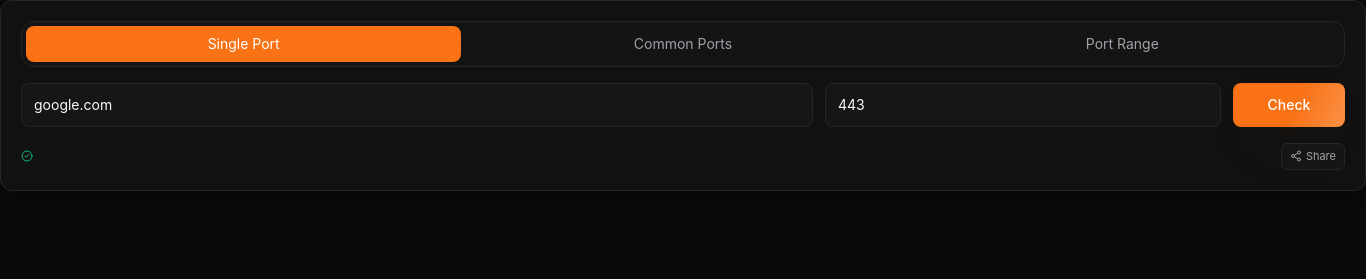
Test case: target-guard integration — DNS/Port/SSL forms › Port checker blocks 'localhost' before posting to /api/v1/port/check
Replace the text in the field named "enter hostname" with "localhost". click: (417, 105)
box: [21,83,813,127]
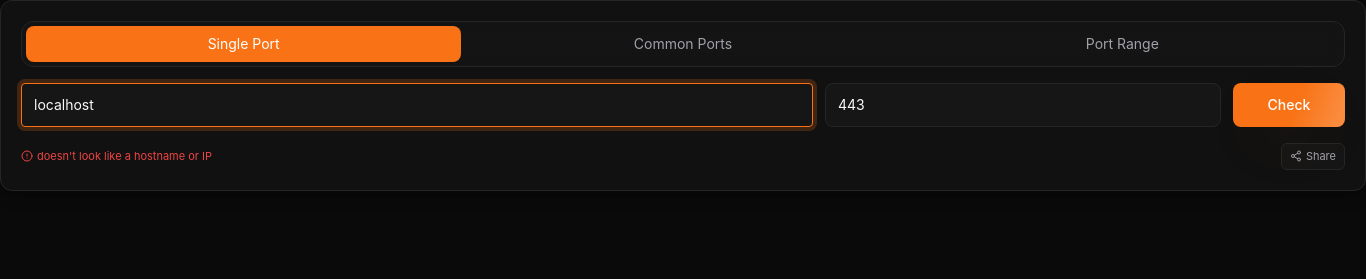
Click the button "Check". click: click(1289, 105)
box: [1233,83,1345,127]
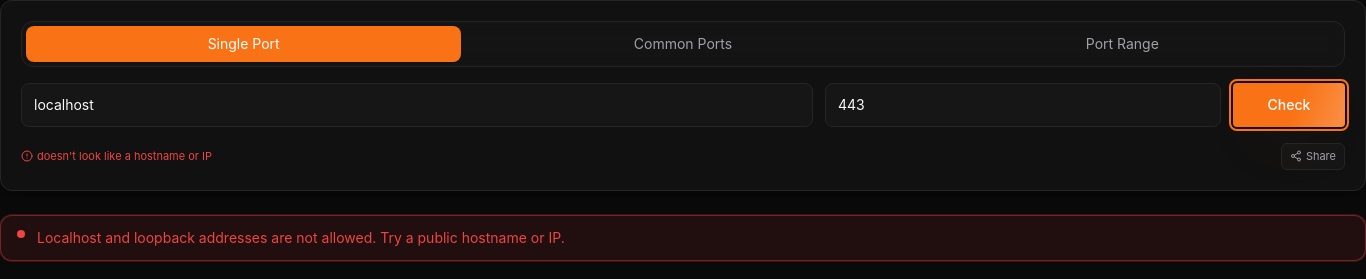
Expected: the message "Localhost and loopback addresses are not allowed. Try a public hostname or IP." is shown, [0,214,1365,260]
